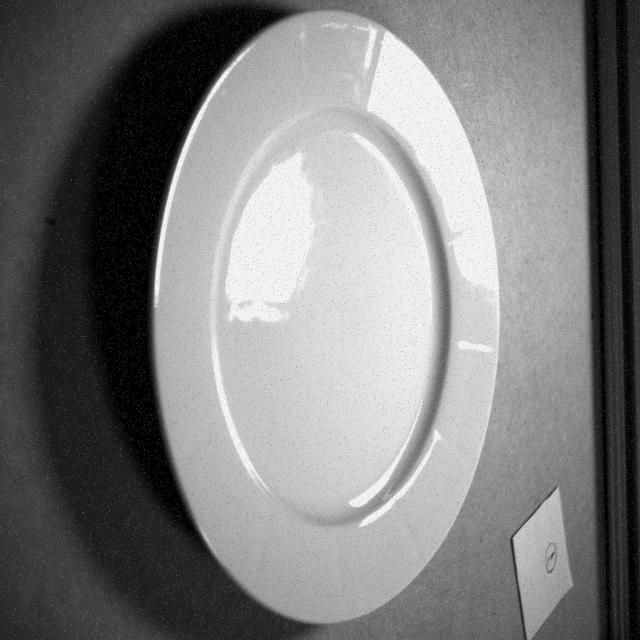plate: (152, 11, 499, 622)
